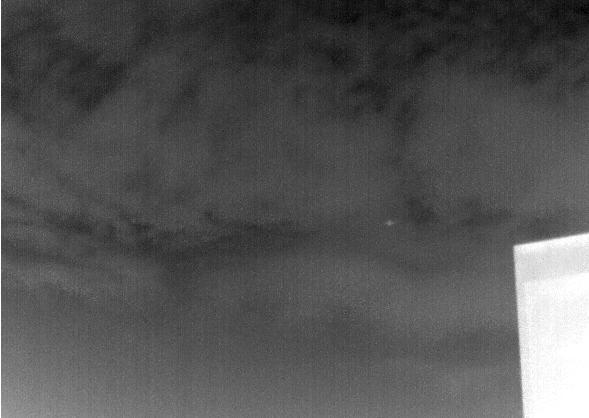dim target: (383, 219, 397, 226)
